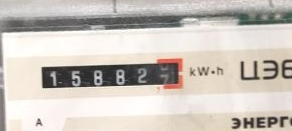1: (48, 69, 58, 87)
2: (136, 66, 147, 83)
5: (69, 69, 81, 86)
7: (158, 72, 169, 85)
8: (92, 68, 103, 85), (115, 68, 125, 84)
screen: (34, 55, 189, 93)
